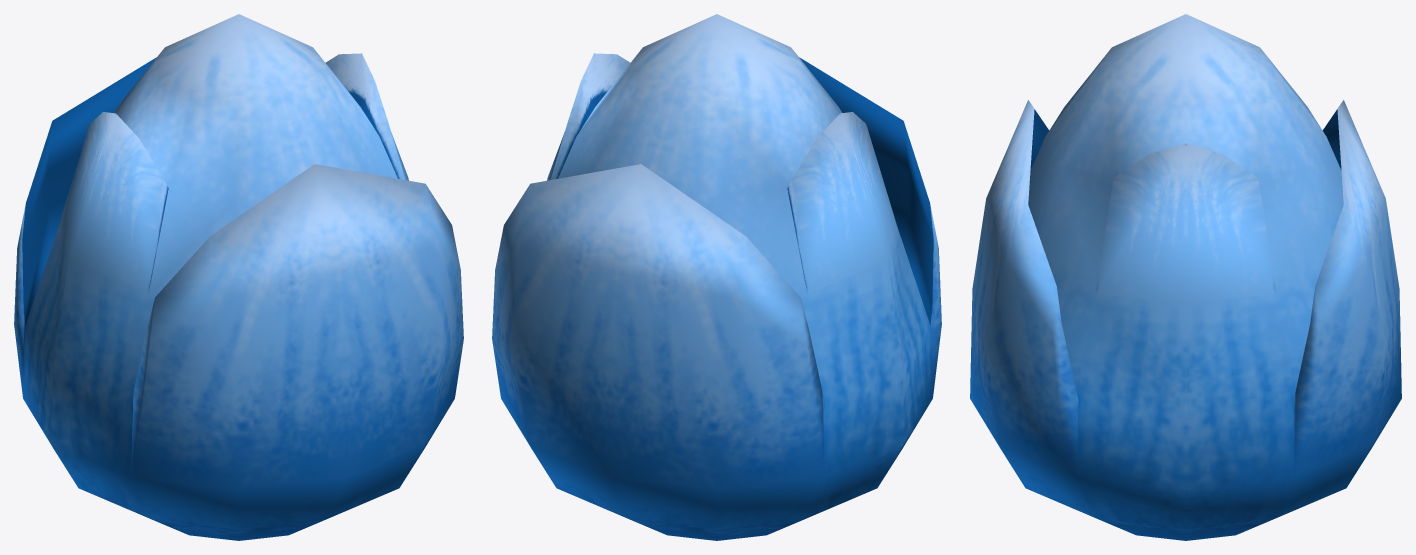
Rendered from tulip.fbx.
The picture shows the model from 3 angles, left to right: view 1: azimuth 30°, elevation 25°; view 2: azimuth 150°, elevation 25°; view 3: azimuth 270°, elevation 25°; orthographic projection.
Parts seen in each view (by area): view 1: tulip; view 2: tulip; view 3: tulip.
Part boxes in pixels (x1,y1,x2,y2): tulip: (14,14,463,540); tulip: (492,14,941,540); tulip: (970,14,1401,540).
Size of the model in its own units: 165 by 213 by 165.
